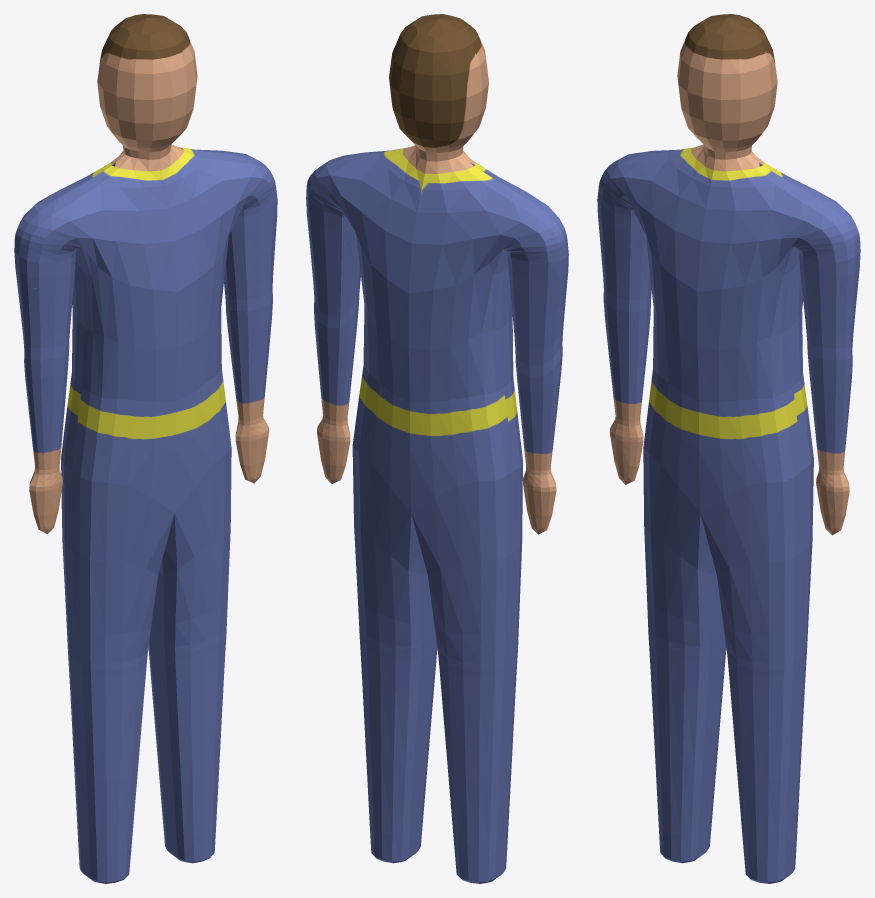
Rendered from fallout.dae.
3 views of the same model, side by side, from view 1: azimuth 30°, elevation 25°; view 2: azimuth 150°, elevation 25°; view 3: azimuth 330°, elevation 25° (orthographic).
Visible parts, largest first — view 1: Man; view 2: Man; view 3: Man.
Boxes of the visible parts, left/top/right/bottom form: Man: left=14, top=14, right=277, bottom=883; Man: left=306, top=14, right=568, bottom=883; Man: left=597, top=14, right=860, bottom=883.
Size of the model in its own units: 0.6225 by 0.255 by 1.97.
1 material, 1 textured.
